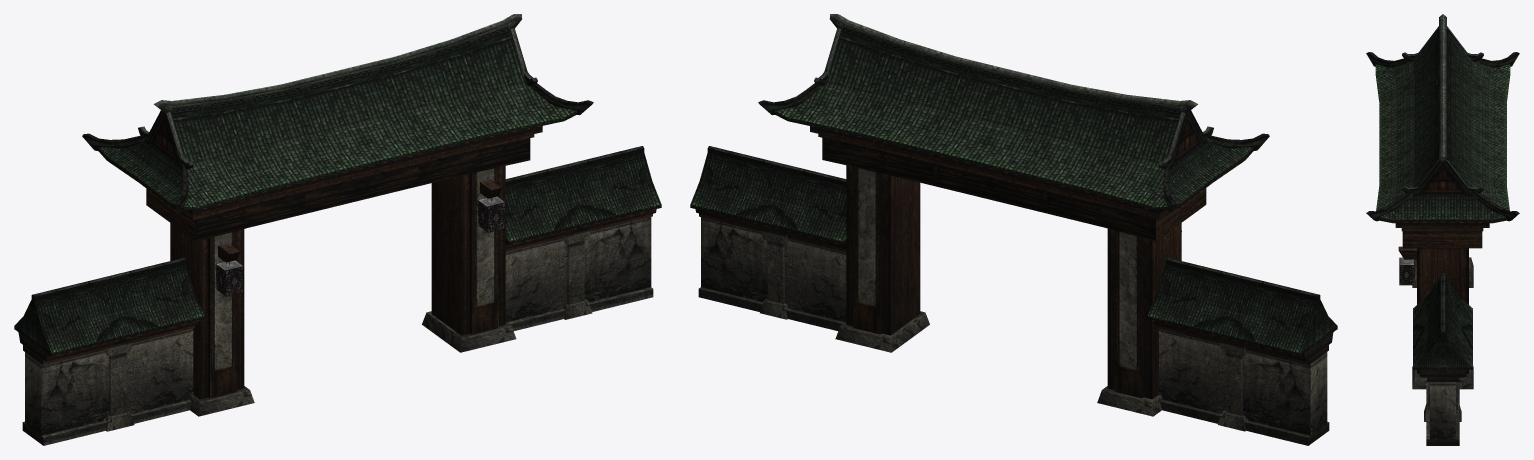
The model's file is c1-038-wall-door_01.glb.
3 views of the same model, side by side, from view 1: azimuth 30°, elevation 25°; view 2: azimuth 150°, elevation 25°; view 3: azimuth 270°, elevation 25° (orthographic). The views are drawn at different scales.
Visible parts, largest first — view 1: a1-038-wall; view 2: a1-038-wall; view 3: a1-038-wall.
Part boxes in pixels (x1=…): a1-038-wall: x1=14, y1=14, x2=661, y2=445; a1-038-wall: x1=690, y1=14, x2=1337, y2=445; a1-038-wall: x1=1366, y1=14, x2=1519, y2=445.
Size of the model in its own units: 20 by 9.62 by 5.49.
1 material, 1 textured.
